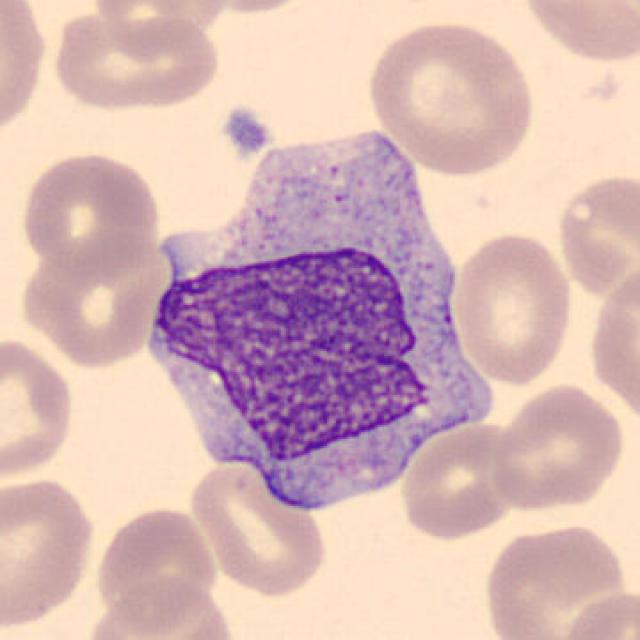Monocyte: (134, 116, 484, 518)
Platelets: (218, 104, 274, 159)
RBC: (362, 16, 540, 178), (16, 231, 169, 368), (448, 227, 576, 388), (185, 458, 331, 598), (50, 3, 226, 116), (16, 148, 164, 282), (487, 381, 628, 513), (478, 520, 633, 640), (90, 503, 220, 631), (396, 418, 524, 543), (0, 473, 98, 631), (0, 332, 78, 482), (553, 168, 638, 300), (87, 573, 233, 638), (585, 258, 640, 430), (514, 0, 640, 67), (93, 0, 231, 55), (0, 0, 50, 145), (560, 585, 638, 640), (185, 0, 325, 16)
